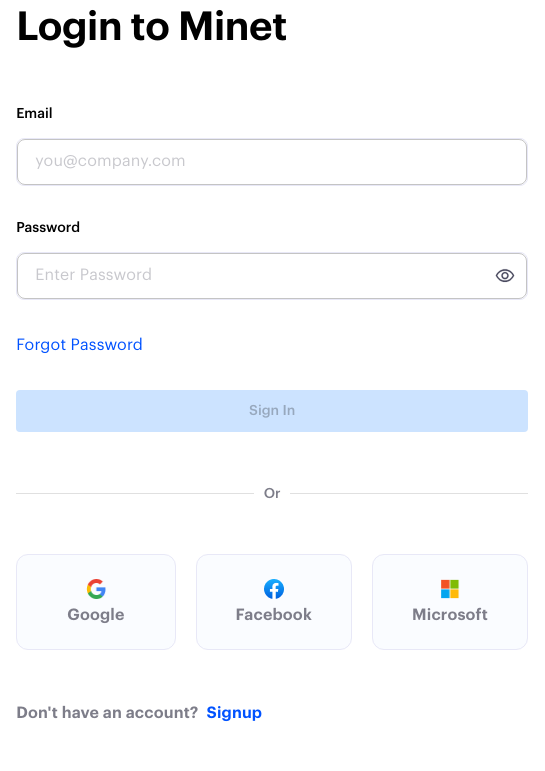
LogIn component › should displays error message for invalid email format
Type "invalid-email" into the field with placeholder "you@company.com" at (268, 162), box x1=21 y1=135 x2=515 y2=188
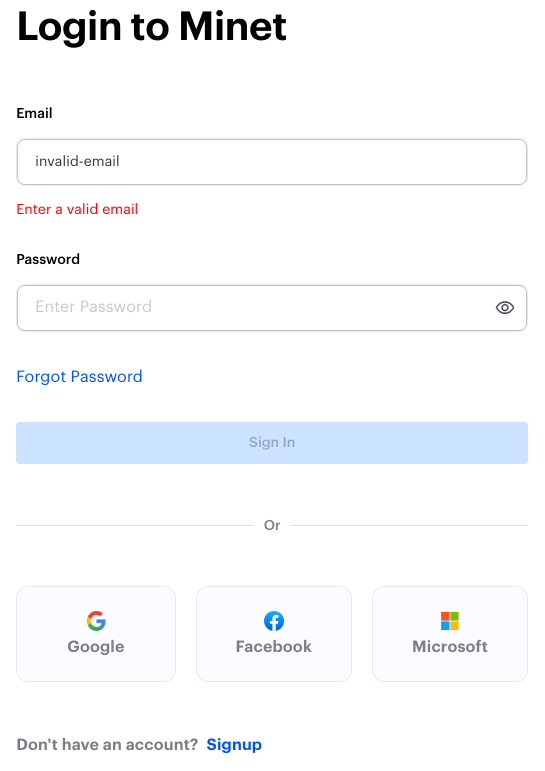
Expected: the text "Enter a valid email" is shown, x1=16 y1=203 x2=138 y2=217
